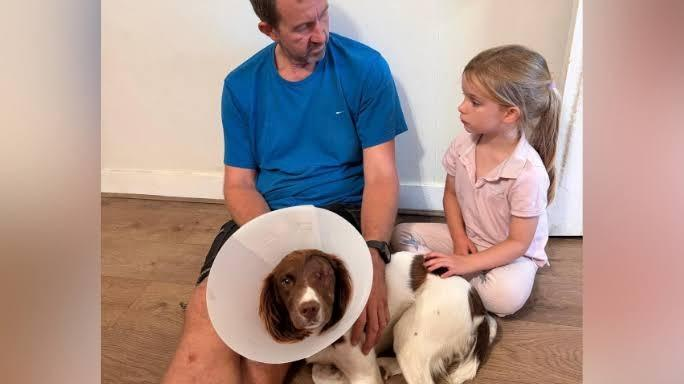adult_dog: (259, 246, 504, 384)
non-dog: (157, 0, 407, 384), (392, 45, 562, 317)
